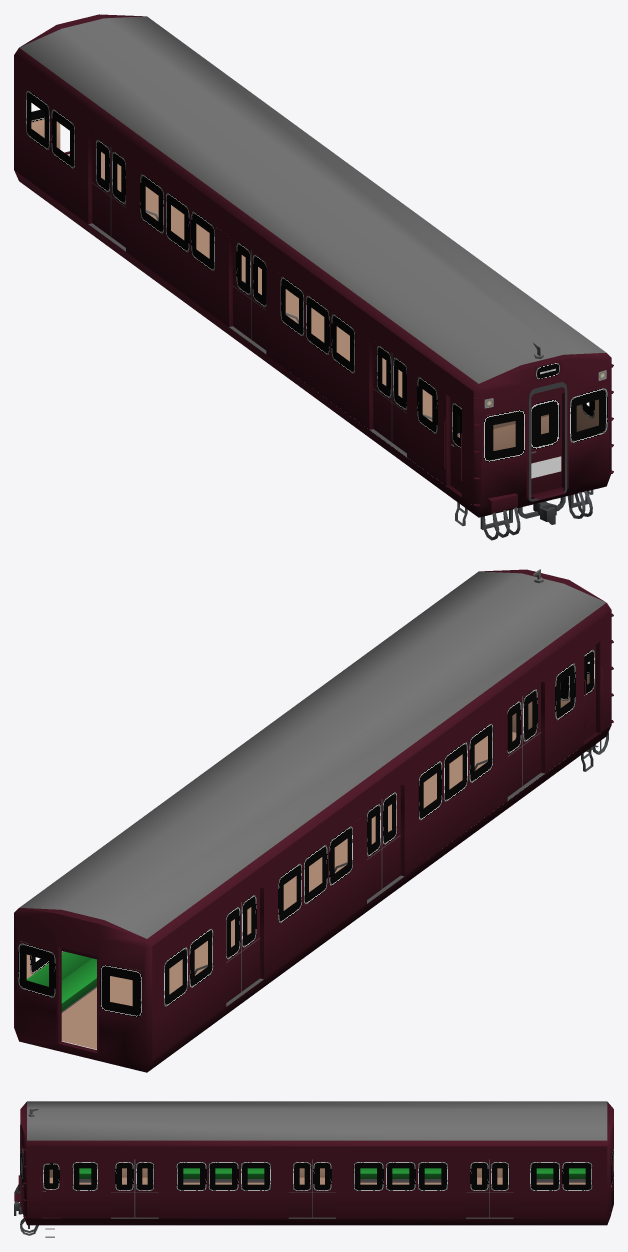
Rendered from HANKYU2000_1.glb.
3 views of the same model, one above another, from view 1: azimuth 30°, elevation 25°; view 2: azimuth 150°, elevation 25°; view 3: azimuth 270°, elevation 25° (orthographic). The views are drawn at different scales.
Parts seen in each view (by area): view 1: body; view 2: body; view 3: body.
Part boxes in pixels (x1,y1,x2,y2): body: (14,14,613,540); body: (14,569,613,1072); body: (14,1101,613,1237).
Bounding box in the file's own units: 6.68 × 8.08 × 38.87.
Materials: 12 (11 with a texture image).
